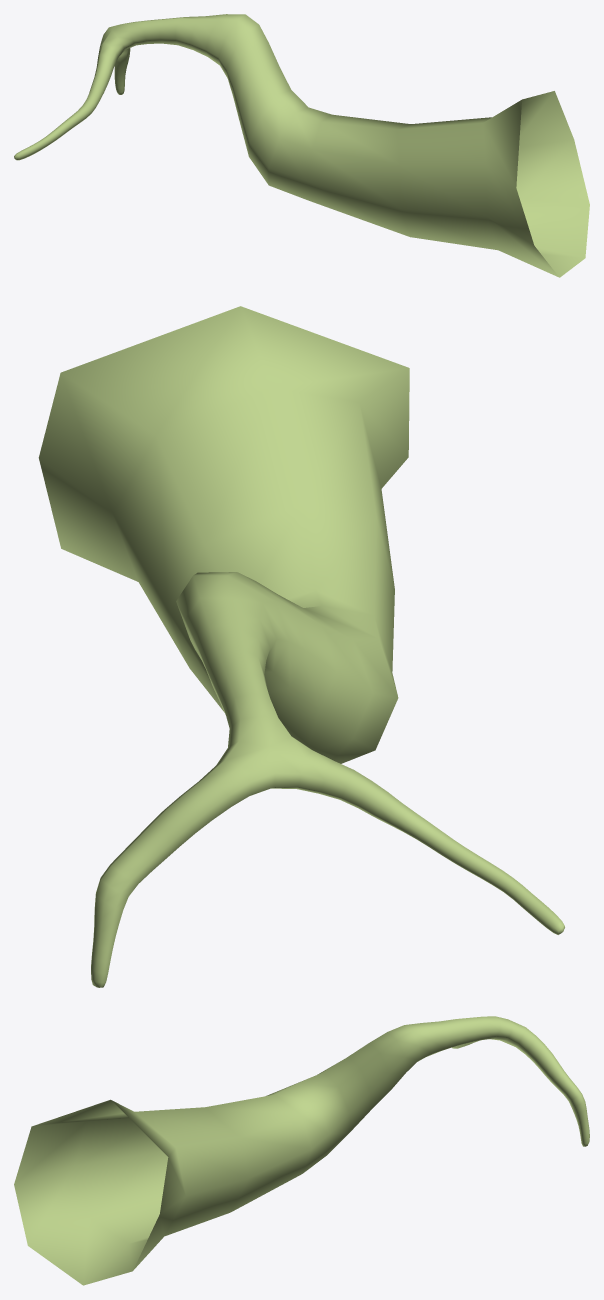
The model's file is Big tree branches_04.fbx.
3 views of the same model, one above another, from view 1: azimuth 30°, elevation 25°; view 2: azimuth 150°, elevation 25°; view 3: azimuth 270°, elevation 25° (orthographic). The views are drawn at different scales.
Parts seen in each view (by area): view 1: polySurface593; view 2: polySurface593; view 3: polySurface593.
Boxes of the visible parts, bbox=[...] form: polySurface593: bbox=[14, 14, 589, 277]; polySurface593: bbox=[38, 306, 564, 987]; polySurface593: bbox=[14, 1016, 589, 1285].
Bounding box in the file's own units: 115 × 44.5 × 138.
